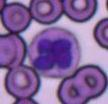N: (28, 27, 81, 78)
